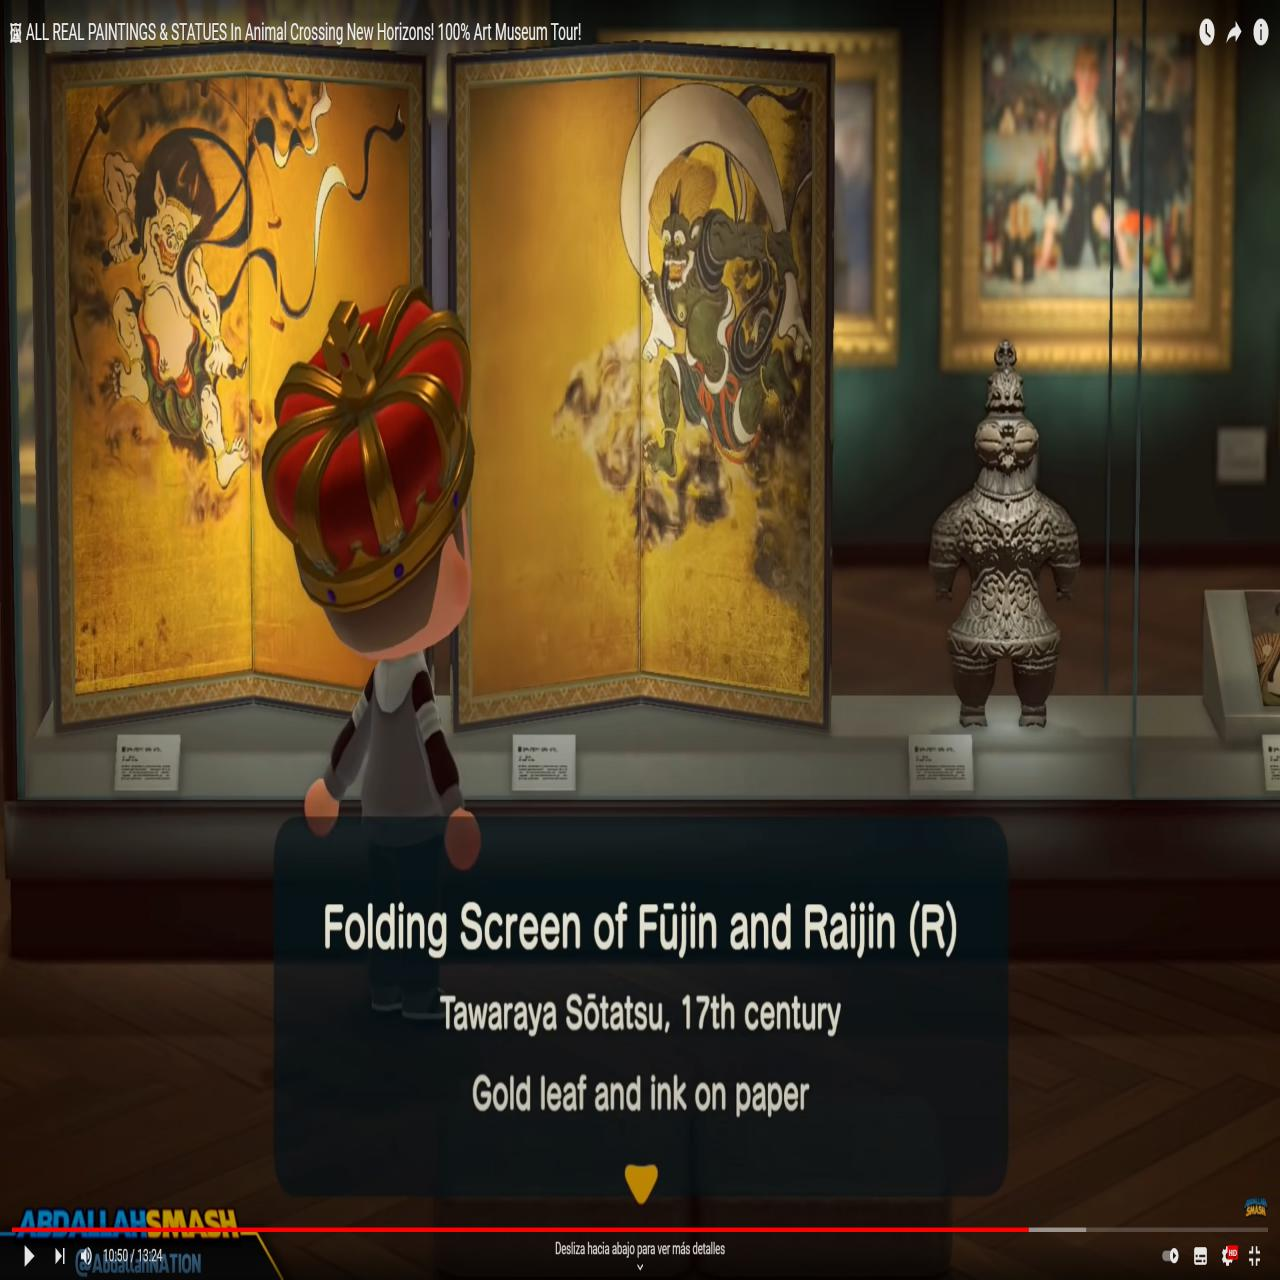BarFB: (983, 33, 1194, 298)
Doguu: (926, 335, 1087, 735)
Fuujin: (465, 72, 815, 696)
